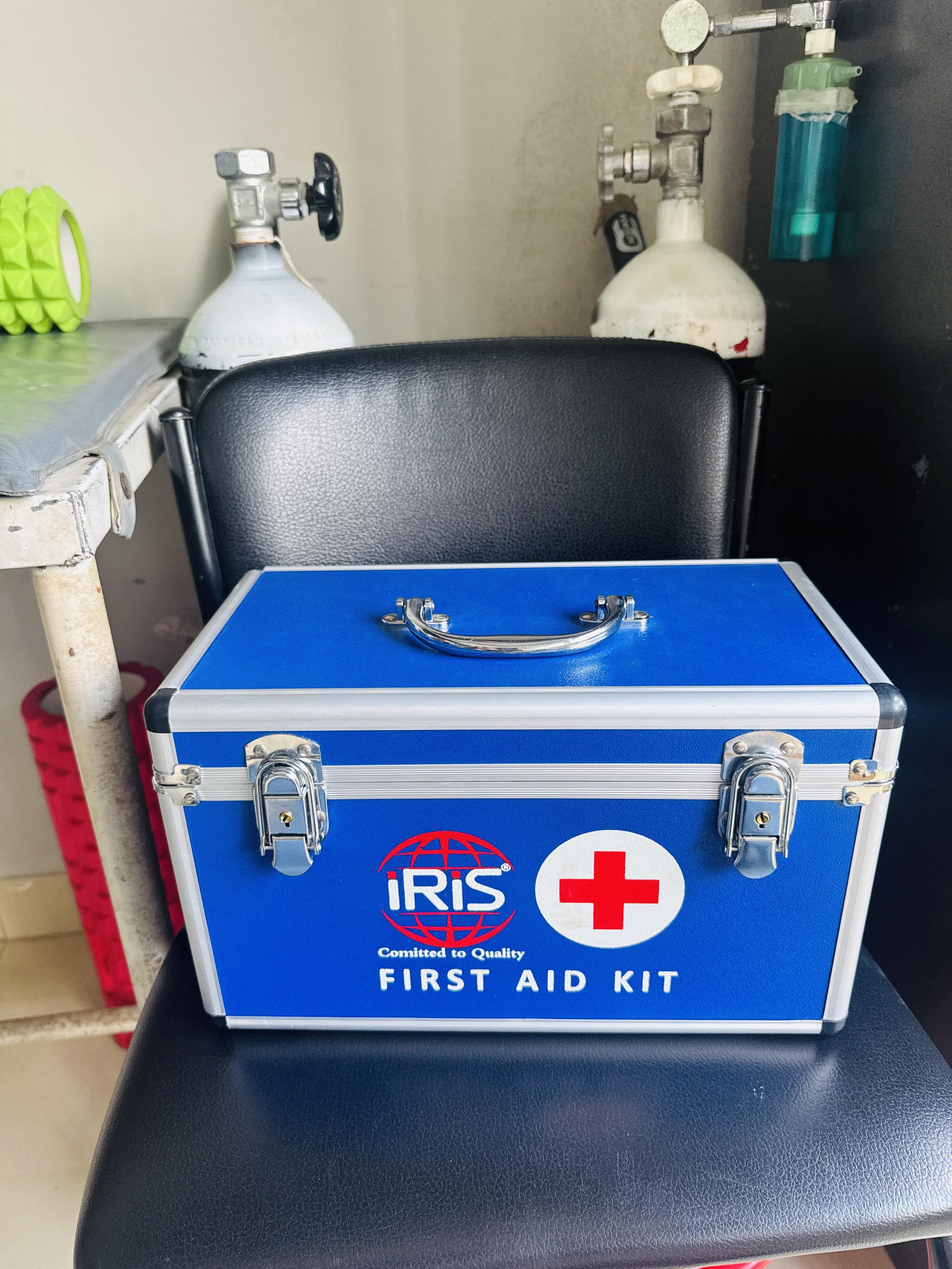FirstAidBox: (129, 530, 925, 1064)
